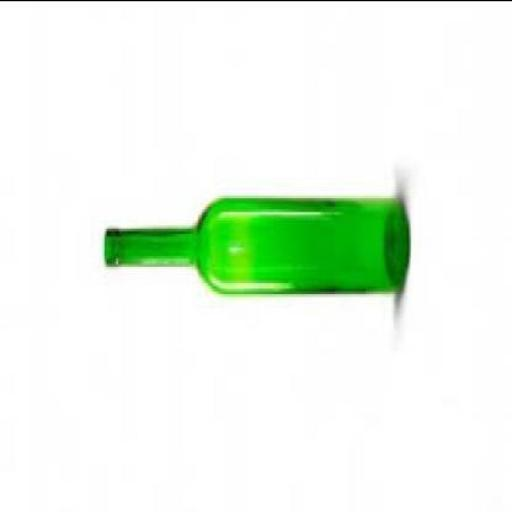glass: (102, 192, 408, 288)
